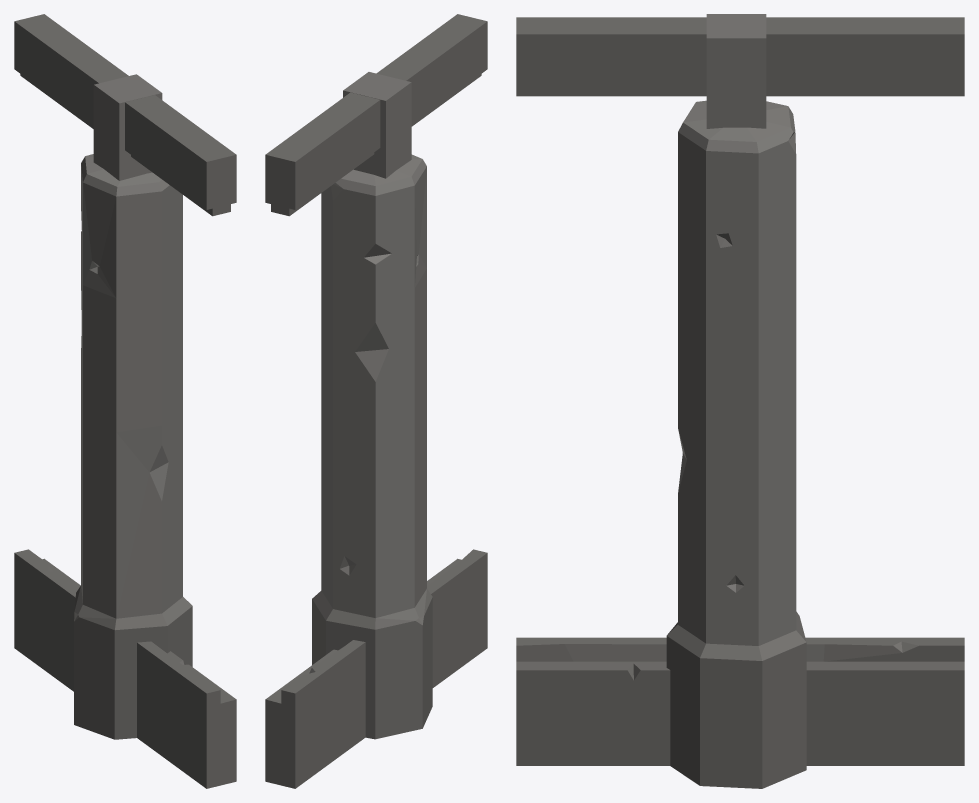
Rendered from SM_Bld_Tunnel_Straight_Wall_02.fbx.
The picture shows the model from 3 angles, left to right: view 1: azimuth 30°, elevation 25°; view 2: azimuth 150°, elevation 25°; view 3: azimuth 270°, elevation 25°; orthographic projection. The views are drawn at different scales.
Visible parts, largest first — view 1: SM_Bld_Tunnel_Straight_Wall_02; view 2: SM_Bld_Tunnel_Straight_Wall_02; view 3: SM_Bld_Tunnel_Straight_Wall_02.
Boxes of the visible parts, <box> form: SM_Bld_Tunnel_Straight_Wall_02: <box>14,14,236,788</box>; SM_Bld_Tunnel_Straight_Wall_02: <box>265,14,487,788</box>; SM_Bld_Tunnel_Straight_Wall_02: <box>516,14,964,788</box>.
Size of the model in its own units: 78.04 by 450 by 250.
